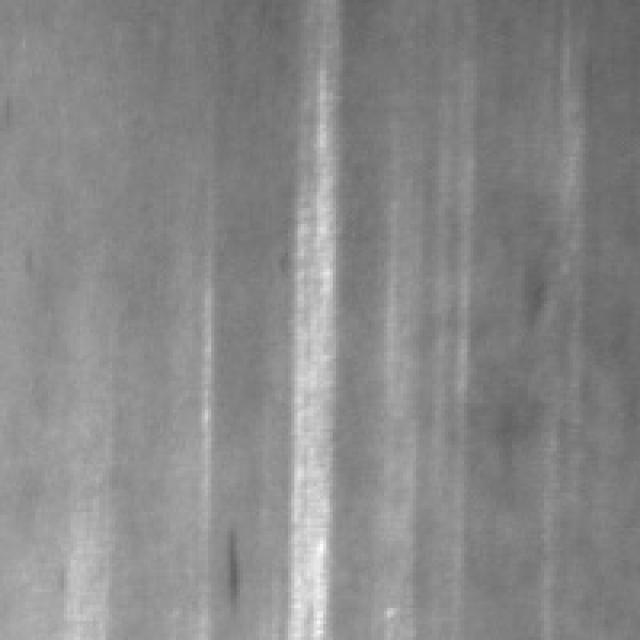scratches: (266, 57, 339, 634)
